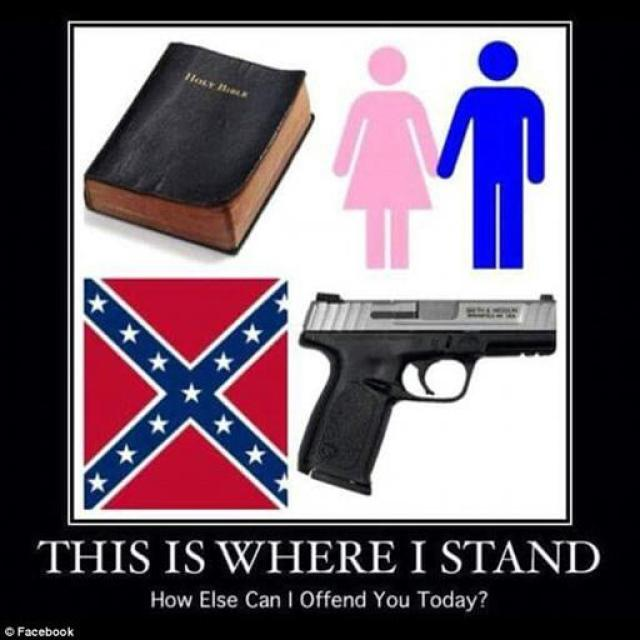pistol: (294, 287, 558, 496)
